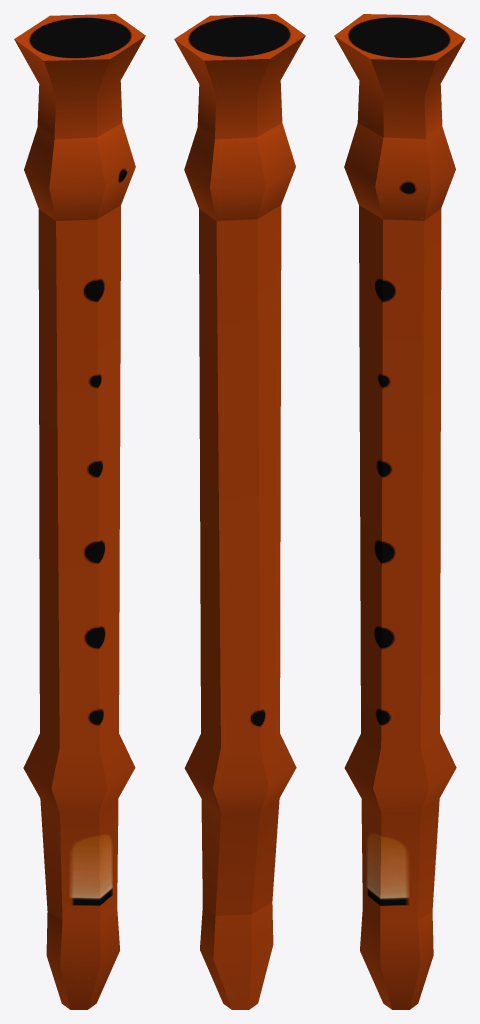
The model's file is Flauta2_000001.obj.
3 views of the same model, side by side, from view 1: azimuth 30°, elevation 25°; view 2: azimuth 210°, elevation 25°; view 3: azimuth 330°, elevation 25° (orthographic).
Visible parts, largest first — view 1: f2_Flauta_1:pCylinder3; view 2: f2_Flauta_1:pCylinder3; view 3: f2_Flauta_1:pCylinder3.
Boxes of the visible parts, left/top/right/bottom form: f2_Flauta_1:pCylinder3: left=14, top=14, right=145, bottom=1009; f2_Flauta_1:pCylinder3: left=174, top=14, right=305, bottom=1009; f2_Flauta_1:pCylinder3: left=334, top=14, right=465, bottom=1009.
Size of the model in its own units: 0.5648 by 5.09 by 0.5662.
